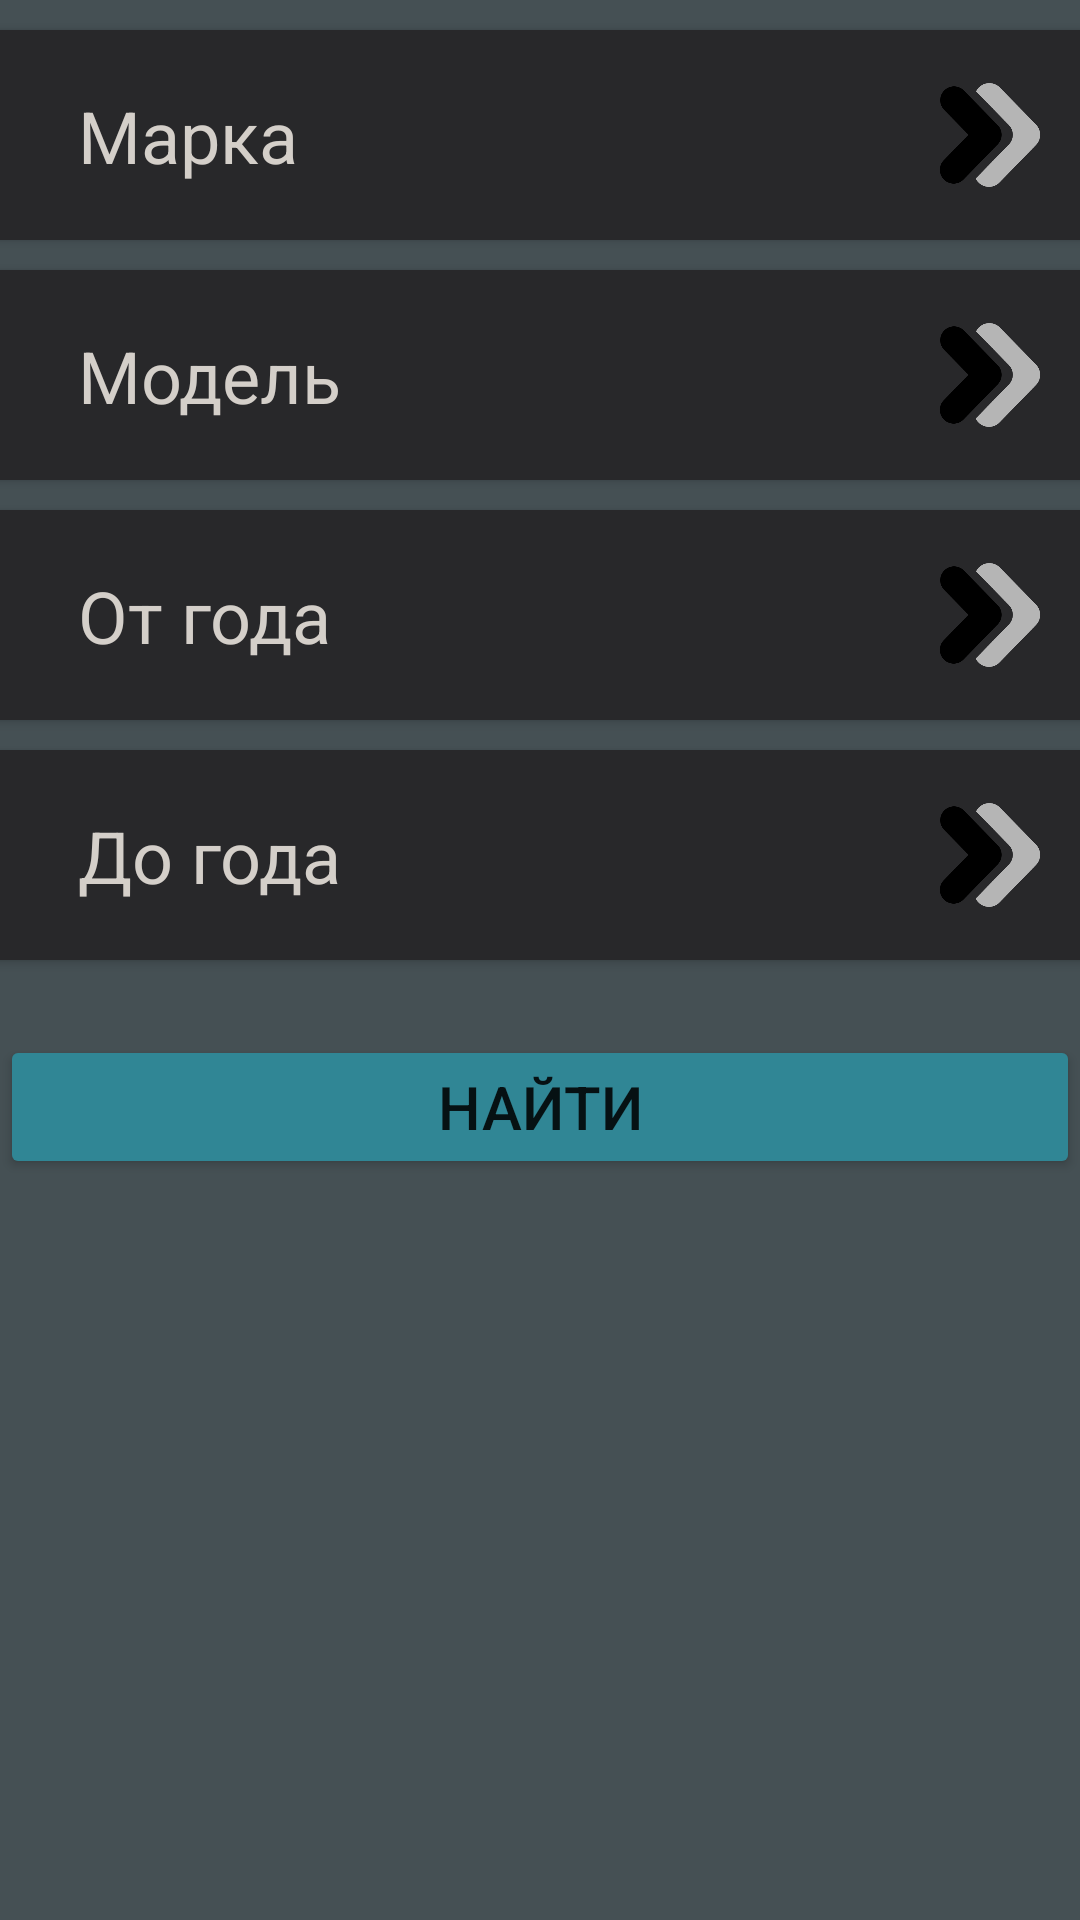

Icon bounding boxes for this 1080 x 1920 phone screenshot, format bbox=[x1, y1, x2, y2]:
arrows: bbox=[940, 83, 1040, 187], bbox=[940, 323, 1040, 427], bbox=[940, 563, 1040, 667], bbox=[940, 803, 1040, 907]
